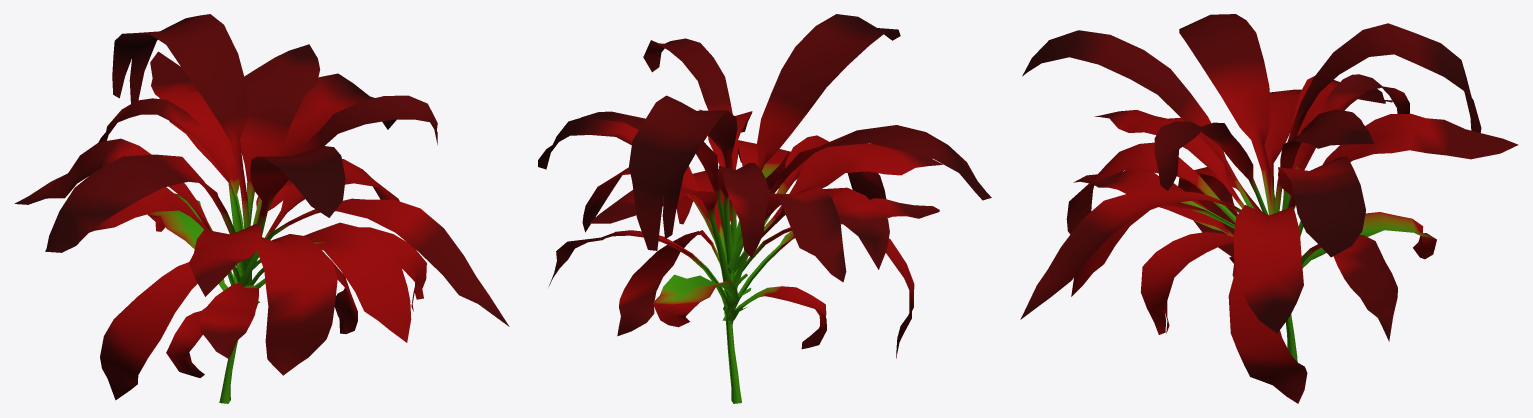
Rendered from Var6_LOD0.fbx.
The picture shows the model from 3 angles, left to right: view 1: azimuth 30°, elevation 25°; view 2: azimuth 150°, elevation 25°; view 3: azimuth 270°, elevation 25°; orthographic projection. The views are drawn at different scales.
Visible parts, largest first — view 1: _2a0a_Var6_LOD0; view 2: _2a0a_Var6_LOD0; view 3: _2a0a_Var6_LOD0.
Boxes of the visible parts, x1,y1,x2,y2 form: _2a0a_Var6_LOD0: (14,14,509,403); _2a0a_Var6_LOD0: (538,14,991,403); _2a0a_Var6_LOD0: (1020,14,1518,403).
Bounding box in the file's own units: 30.14 × 24.14 × 31.44.
